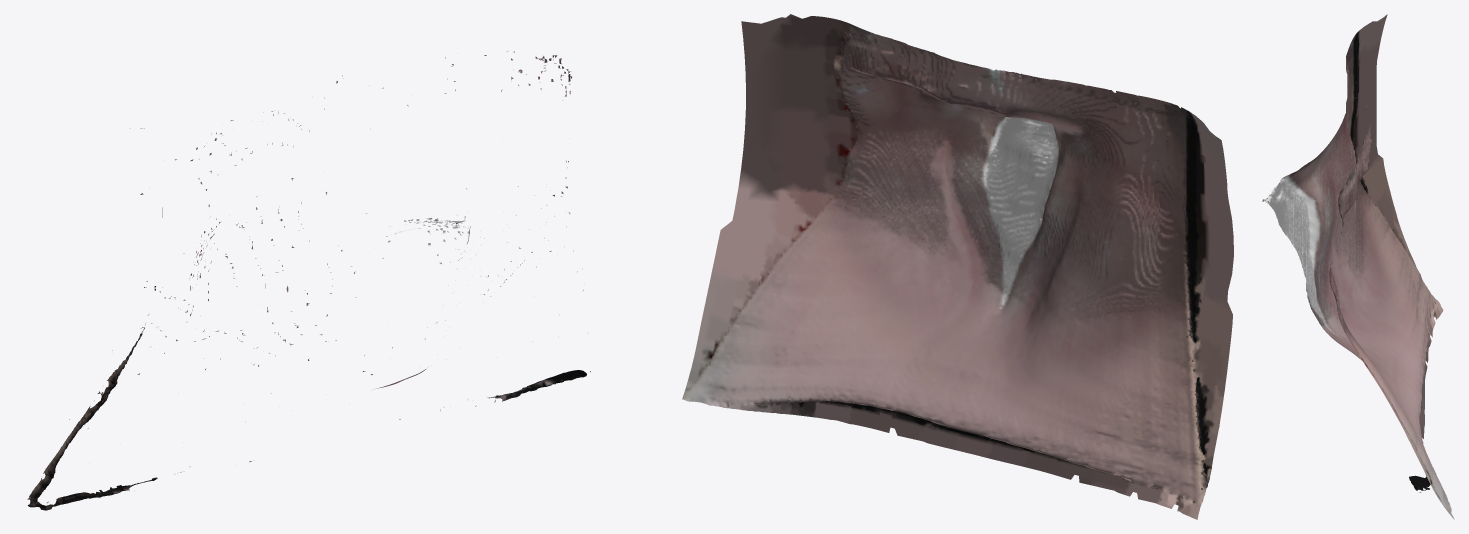
File: vocal (45) - white.gltf
3 views of the same model, side by side, from view 1: azimuth 30°, elevation 25°; view 2: azimuth 150°, elevation 25°; view 3: azimuth 270°, elevation 25° (orthographic). The views are drawn at different scales.
Bounding box in the file's own units: 0.00151 × 0.00102 × 0.000584.
